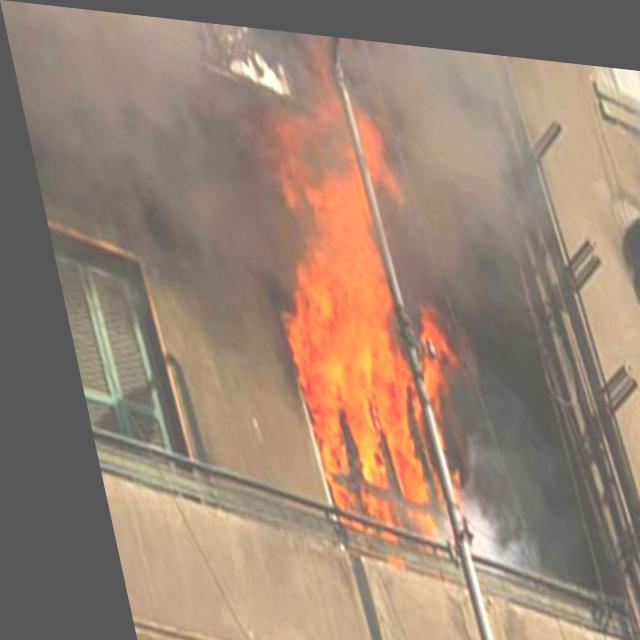Fire: (222, 59, 472, 544)
